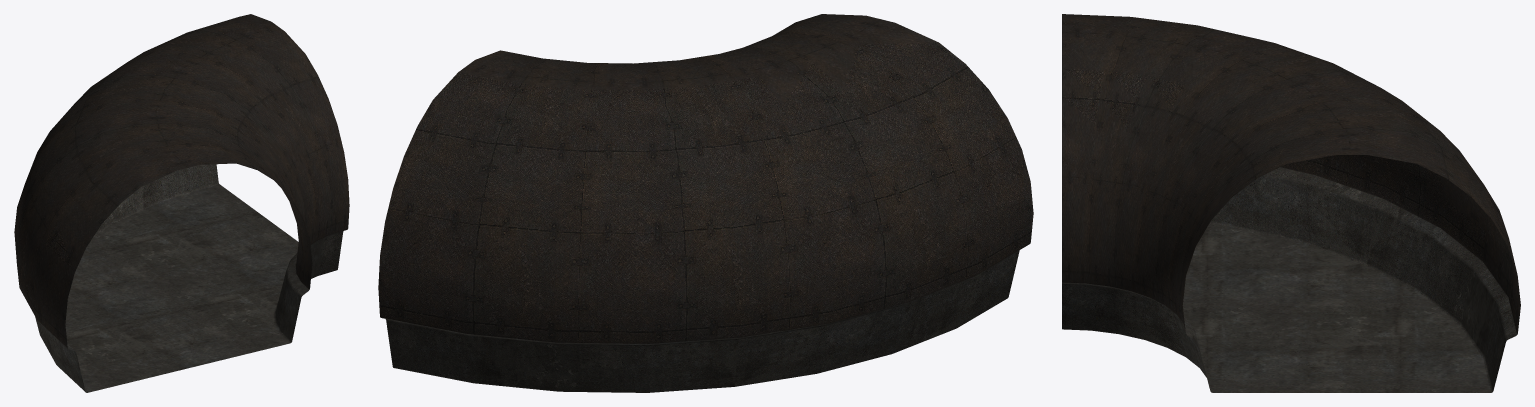
Rendered from tunnel_ancle.glb.
The picture shows the model from 3 angles, left to right: view 1: azimuth 30°, elevation 25°; view 2: azimuth 150°, elevation 25°; view 3: azimuth 270°, elevation 25°; orthographic projection. The views are drawn at different scales.
Parts seen in each view (by area): view 1: tunnel_ancle; view 2: tunnel_ancle; view 3: tunnel_ancle.
Boxes of the visible parts, x1,y1,x2,y2 form: tunnel_ancle: (14,14,349,392); tunnel_ancle: (378,14,1033,392); tunnel_ancle: (1062,14,1520,392).
Bounding box in the file's own units: 4.75 × 2.72 × 4.75.
Materials: 2 (2 with a texture image).
